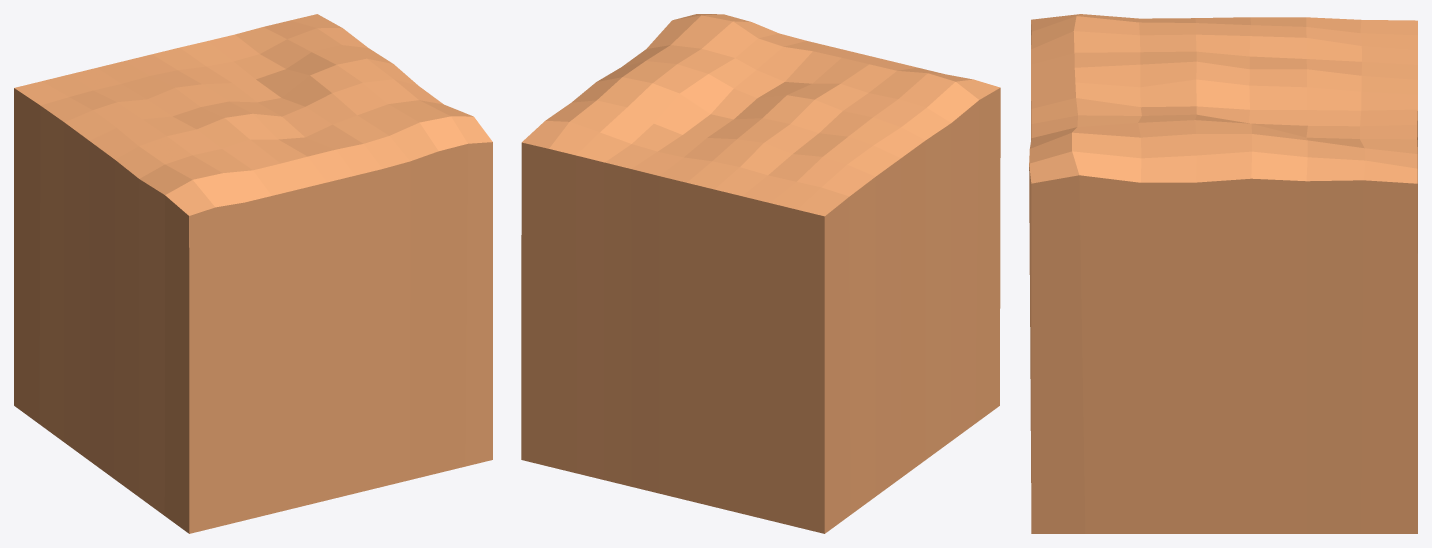
3 views of the same model, side by side, from view 1: azimuth 30°, elevation 25°; view 2: azimuth 150°, elevation 25°; view 3: azimuth 270°, elevation 25° (orthographic). The views are drawn at different scales.
Visible parts, largest first — view 1: Cube; view 2: Cube; view 3: Cube.
Part boxes in pixels (x1,y1,x2,y2): Cube: (14, 14, 492, 533); Cube: (521, 14, 1000, 533); Cube: (1029, 14, 1417, 533).
Bounding box in the file's own units: 2.03 × 2.12 × 2.01.
